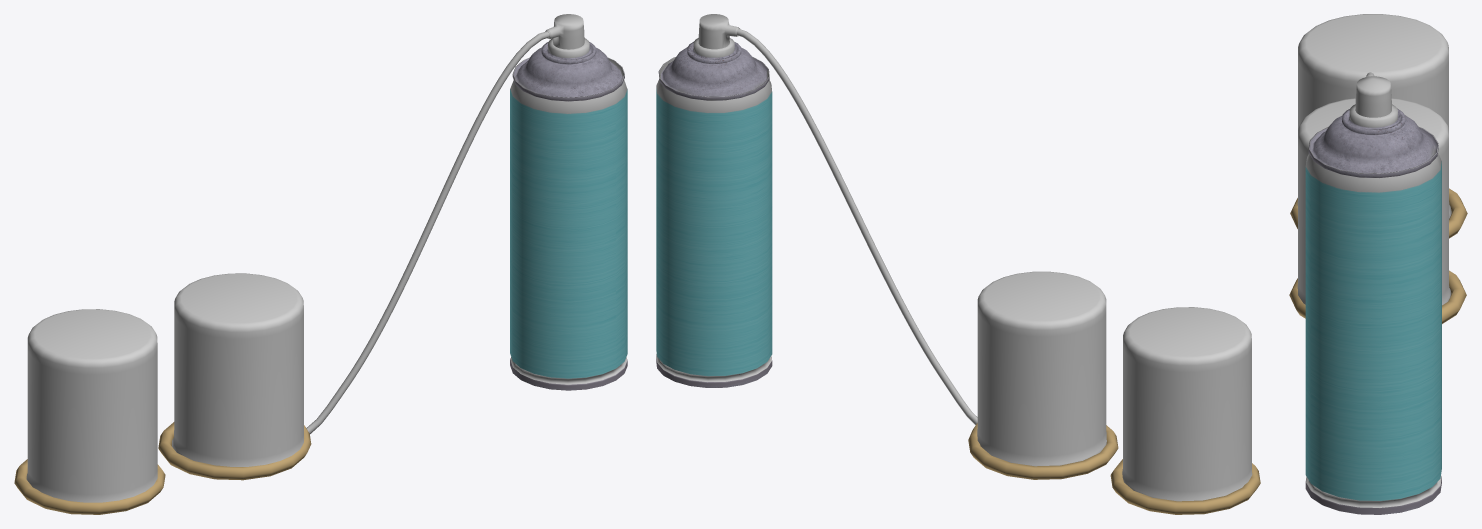
The model's file is candle.gltf.
3 renders of one model, left to right at view 1: azimuth 30°, elevation 25°; view 2: azimuth 150°, elevation 25°; view 3: azimuth 270°, elevation 25°, orthographic. The views are drawn at different scales.
Parts seen in each view (by area): view 1: lowRes1, lab_beaker_a, lab_beaker_a1, sweep1, pTorus1, pTorus2; view 2: lowRes1, lab_beaker_a1, lab_beaker_a, sweep1, pTorus1, pTorus2; view 3: lowRes1, lab_beaker_a, lab_beaker_a1, pTorus1, pTorus2.
Boxes of the visible parts, bbox=[...] form: lowRes1: bbox=[510, 14, 627, 390]; lab_beaker_a: bbox=[26, 309, 157, 502]; lab_beaker_a1: bbox=[172, 273, 303, 466]; sweep1: bbox=[306, 31, 549, 433]; pTorus1: bbox=[158, 422, 311, 480]; pTorus2: bbox=[14, 459, 165, 514]; lowRes1: bbox=[656, 14, 772, 387]; lab_beaker_a1: bbox=[977, 271, 1106, 466]; lab_beaker_a: bbox=[1122, 307, 1252, 501]; sweep1: bbox=[737, 29, 977, 424]; pTorus1: bbox=[968, 423, 1118, 479]; pTorus2: bbox=[1110, 459, 1260, 514]; lowRes1: bbox=[1305, 75, 1441, 514]; lab_beaker_a: bbox=[1297, 14, 1451, 218]; lab_beaker_a1: bbox=[1297, 98, 1451, 305]; pTorus1: bbox=[1289, 270, 1466, 323]; pTorus2: bbox=[1290, 188, 1467, 238].
Bounding box in the file's own units: 0.77 × 0.4338 × 0.1722.
